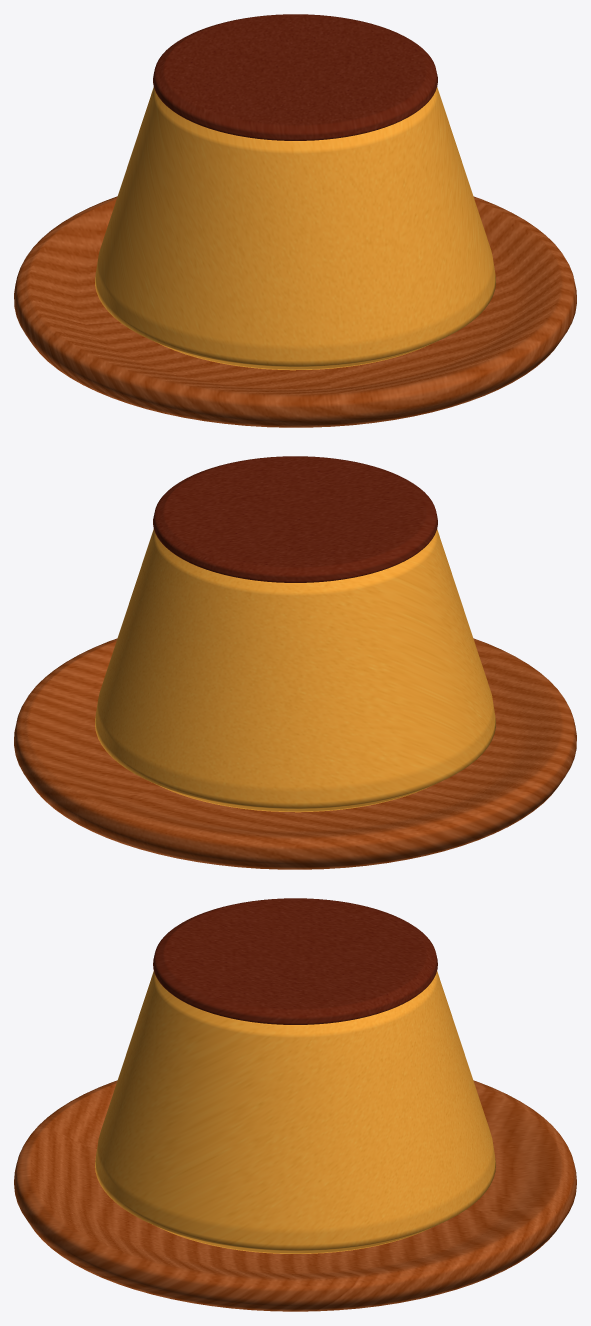
The model's file is 03-hojicha-pudding.glb.
3 renders of one model, top to bottom at view 1: azimuth 30°, elevation 25°; view 2: azimuth 150°, elevation 25°; view 3: azimuth 270°, elevation 25°, orthographic.
Parts seen in each view (by area): view 1: Silky golden custard, Honey wood grain, Roasted tea caramel; view 2: Silky golden custard, Honey wood grain, Roasted tea caramel; view 3: Silky golden custard, Honey wood grain, Roasted tea caramel.
Part boxes in pixels (left/top/right/bottom): Silky golden custard: left=95, top=87, right=495, bottom=370; Honey wood grain: left=14, top=196, right=576, bottom=427; Roasted tea caramel: left=153, top=14, right=437, bottom=140; Silky golden custard: left=95, top=529, right=495, bottom=812; Honey wood grain: left=14, top=638, right=576, bottom=869; Roasted tea caramel: left=153, top=456, right=437, bottom=582; Silky golden custard: left=95, top=971, right=495, bottom=1253; Honey wood grain: left=14, top=1080, right=576, bottom=1311; Roasted tea caramel: left=153, top=898, right=437, bottom=1024.
Size of the model in its own units: 0.0359 by 0.0176 by 0.0359.
3 materials, 3 textured.
